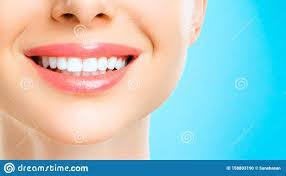normal: (68, 56, 84, 74), (83, 57, 99, 73), (105, 54, 120, 71), (97, 56, 111, 73), (55, 55, 68, 72), (39, 54, 50, 69), (47, 55, 58, 70), (114, 56, 124, 71)
